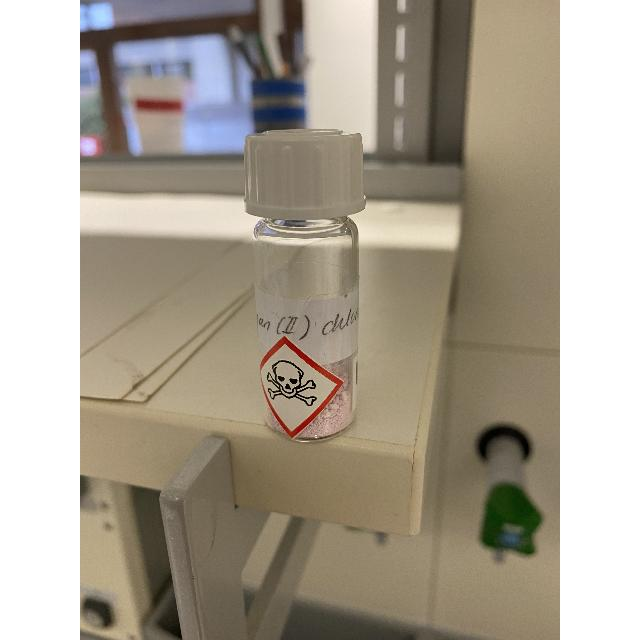acute toxicity: (267, 359, 317, 406)
